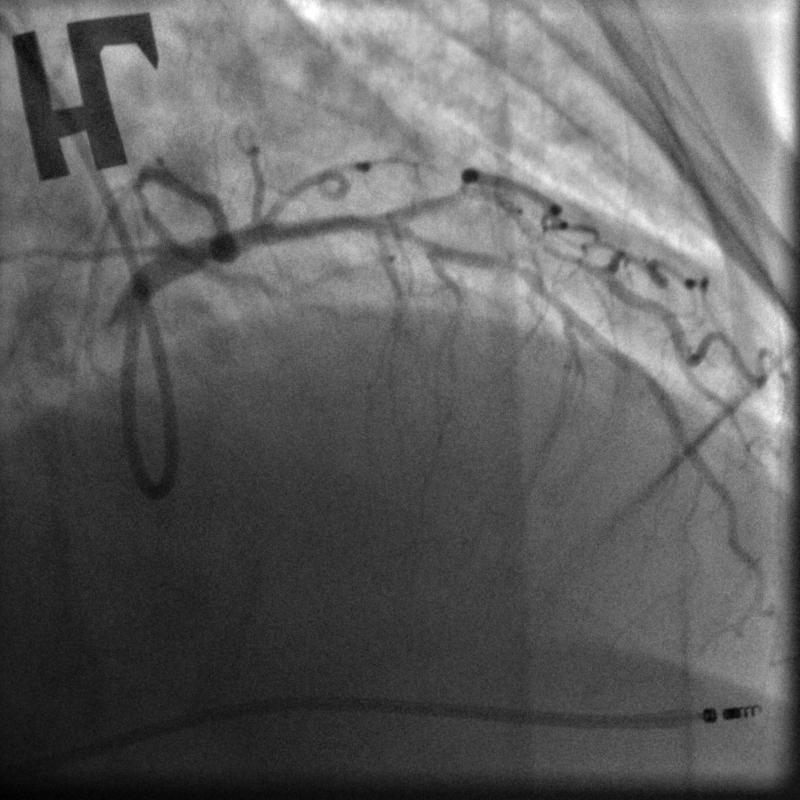Stenosis: (481, 253, 544, 294)
